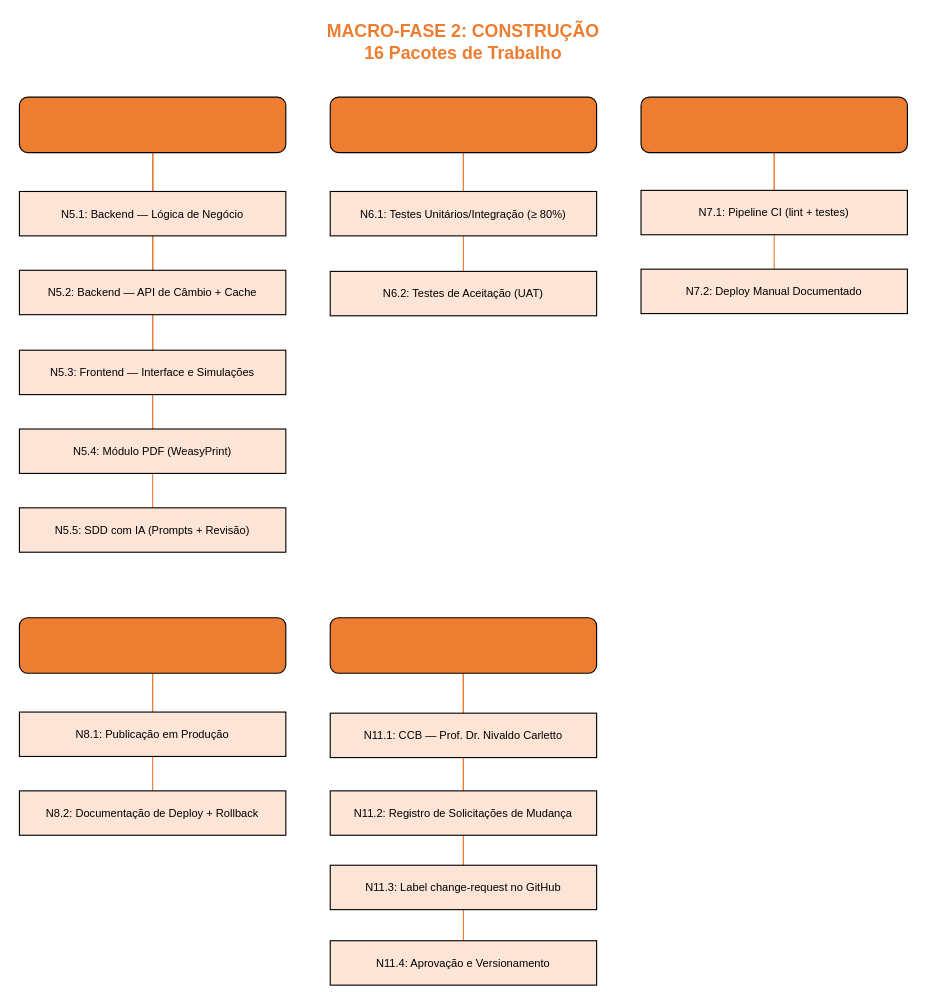
Some shapes in this 927 by 1005 pixel diagram are drawn without their labels. The box of each missing label's shape, as (x1, y1, x2, y2) in pixels:
N11: Gestão de Mudanças: (329, 617, 597, 673)
N5: Desenvolvimento do Sistema: (18, 96, 286, 153)
N6: Garantia da Qualidade: (329, 96, 597, 153)
N7: DevOps e CI/CD: (640, 96, 907, 153)
N8: Implantação (Deploy): (18, 617, 286, 673)
